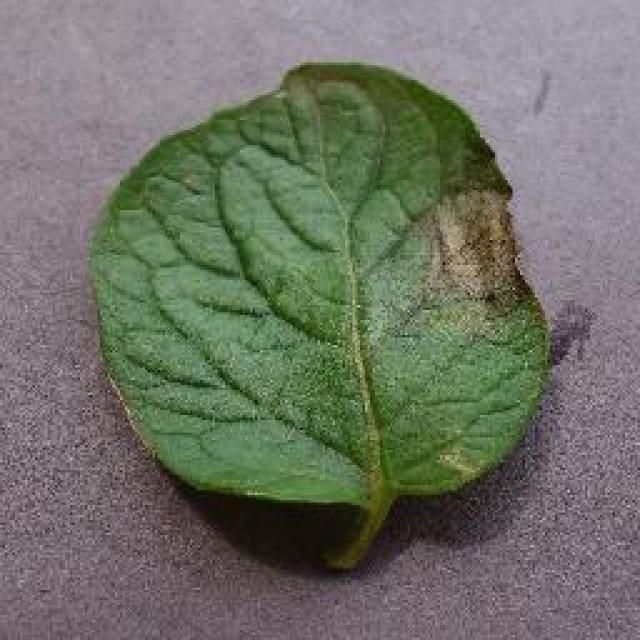late_blight: (82, 55, 558, 570)
